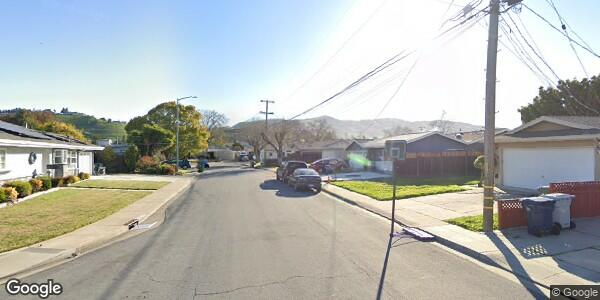Steel_Pole: (174, 94, 198, 175)
Wood_Pole: (479, 2, 503, 231), (258, 98, 275, 163)
